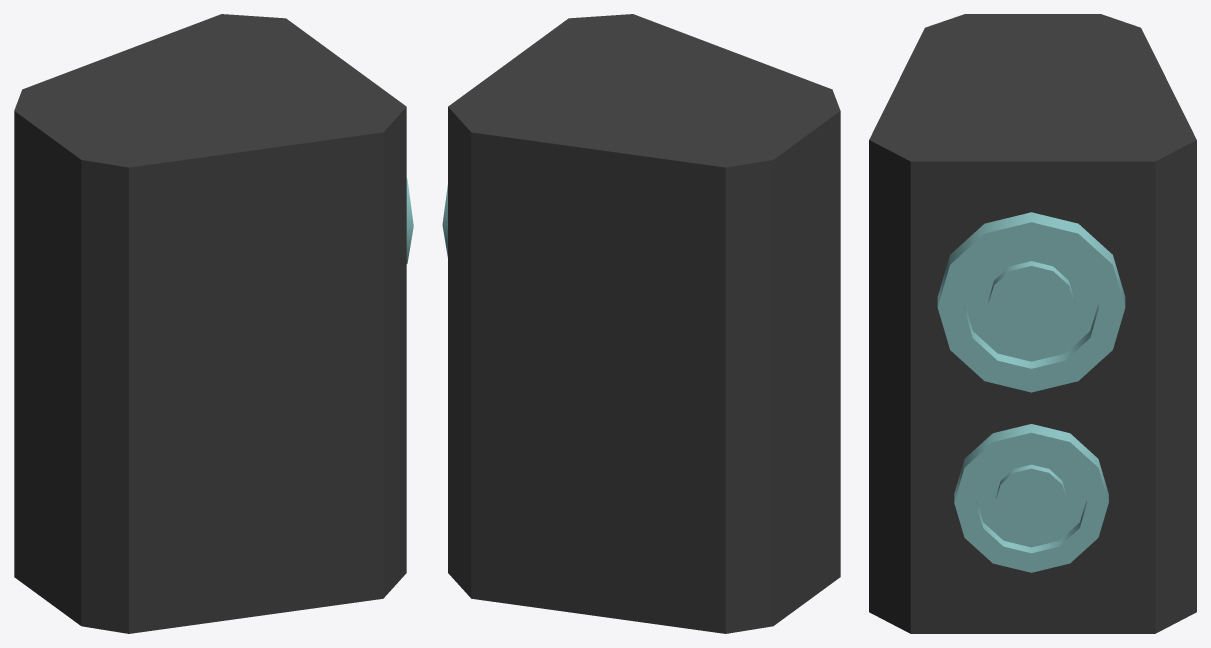
Rendered from disco_bass.fbx.
3 renders of one model, left to right at view 1: azimuth 30°, elevation 25°; view 2: azimuth 150°, elevation 25°; view 3: azimuth 270°, elevation 25°, orthographic.
Visible parts, largest first — view 1: Cube.043; view 2: Cube.043; view 3: Cube.043, Cylinder.
Boxes of the visible parts, x1,y1,x2,y2 form: Cube.043: [14, 14, 406, 633]; Cube.043: [448, 14, 840, 633]; Cube.043: [869, 14, 1196, 633]; Cylinder: [937, 212, 1125, 572].
Size of the model in its own units: 37.05 by 51.78 by 32.56.
